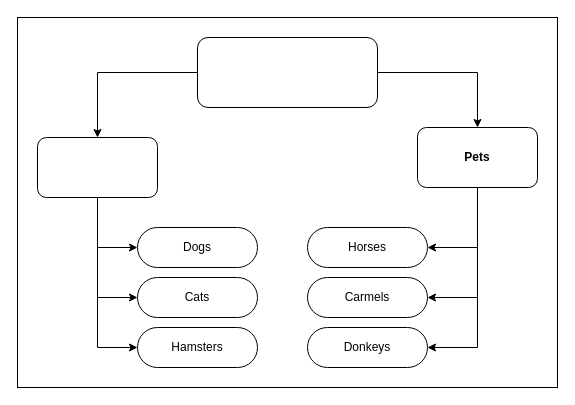
This 575x405 diagram has some shape labels left out. The shapes that lost their labels are listed below. From the top down, each one's centre as x and y in pixels, then its label:
(x=287, y=72): Animals
(x=97, y=167): Pack_animals
